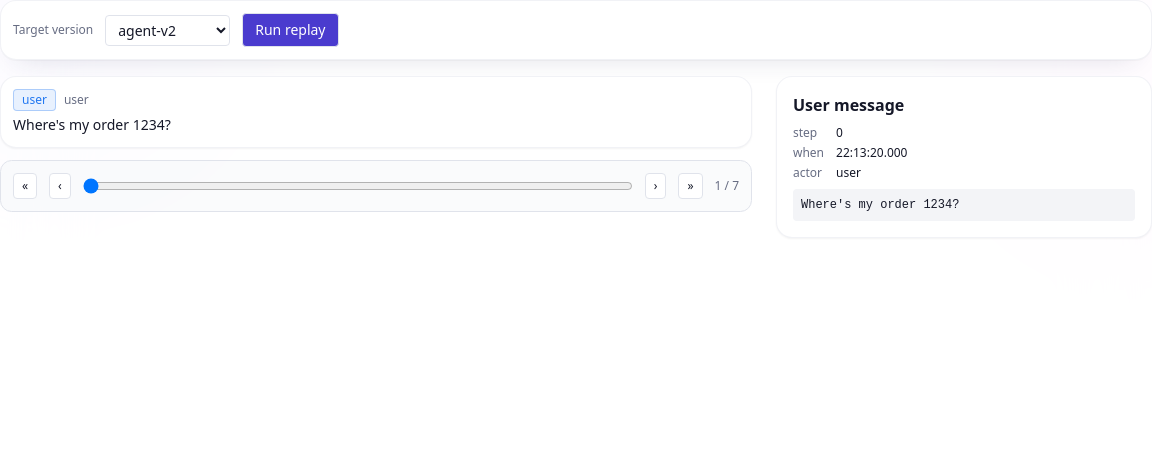
it: ReplayPlayer › clicking prev rewinds to the previous boundary
Click the button with test id "replay-last". click: (690, 186)
box: x1=678 y1=173 x2=702 y2=199
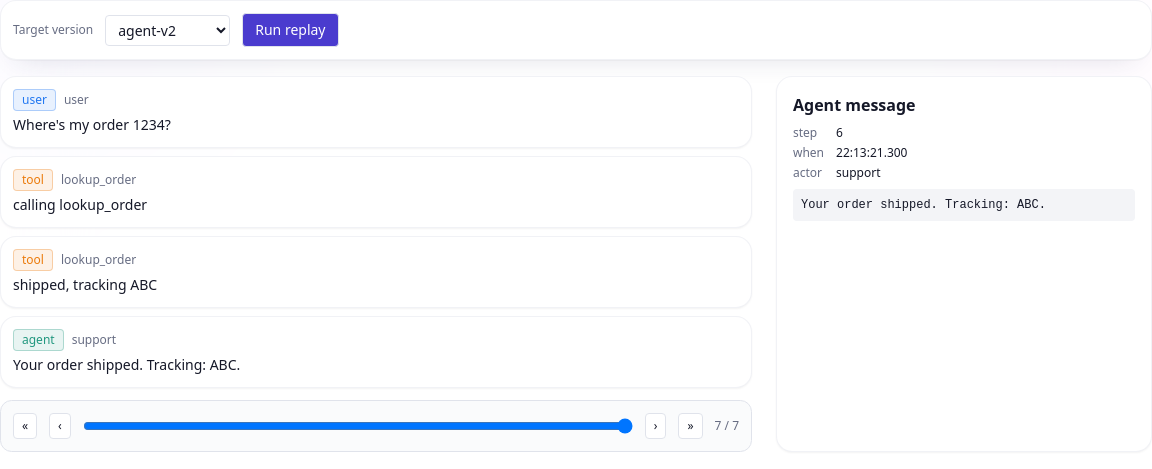
Click the button with test id "replay-prev". click: (60, 426)
box: x1=49 y1=413 x2=71 y2=439
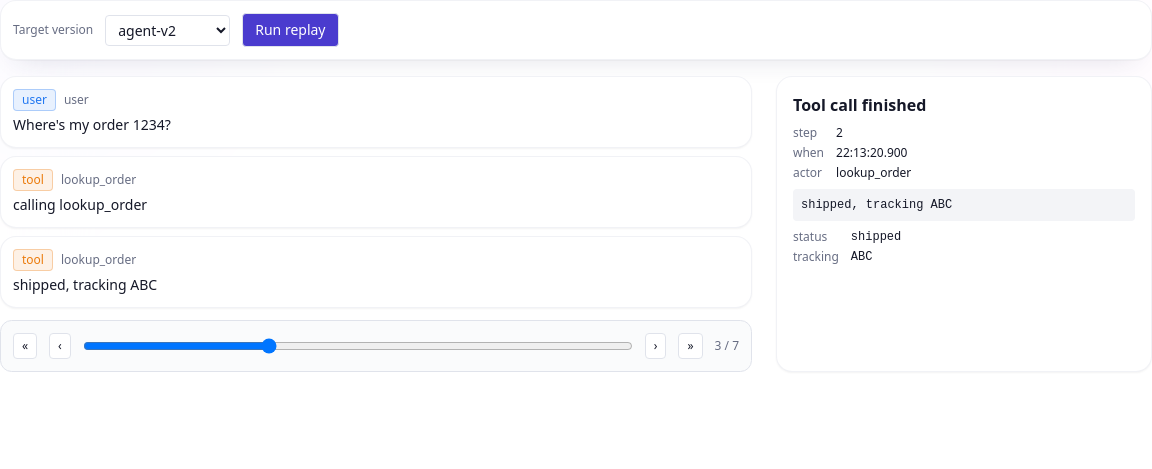
expect the text with test id "replay-cursor" reads "3 / 7": met, box x1=714 y1=338 x2=739 y2=354
